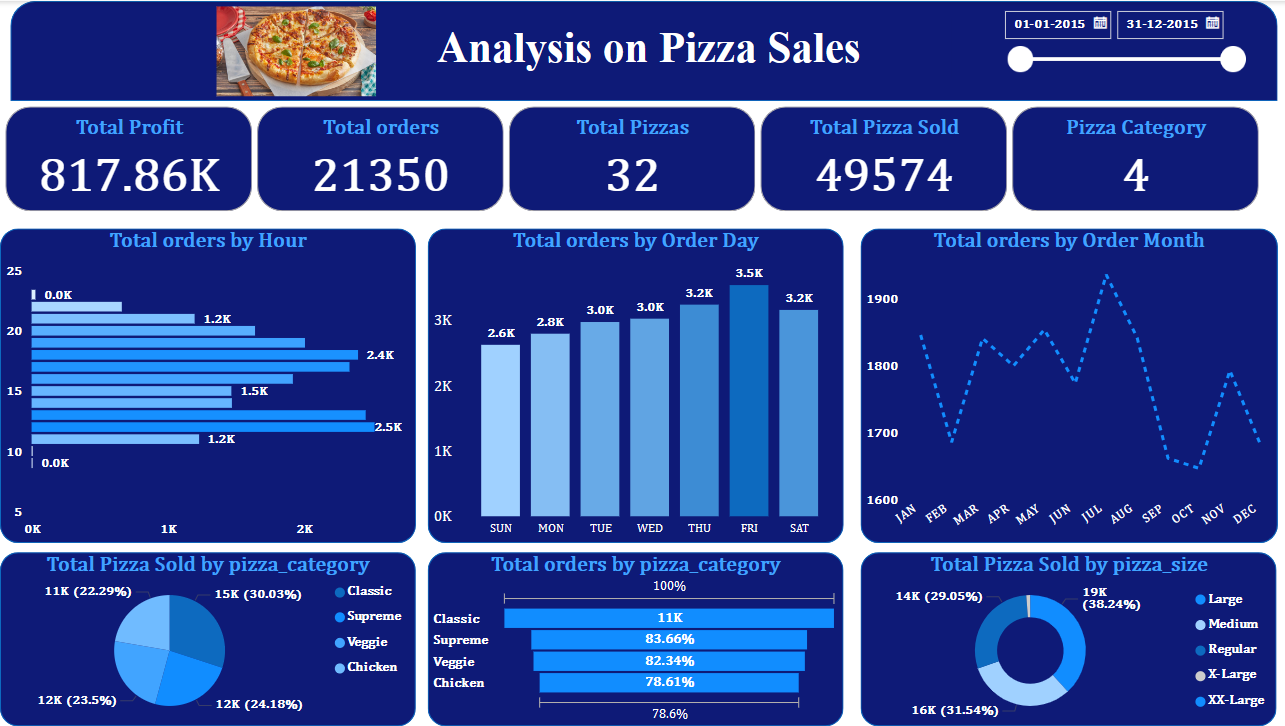

Layout of this report page (visuals, bound fields, positions):
{"tool":"powerbi","page":{"name":"Page 1","canvas":[1280,720],"ordinal":0},"visuals":[{"type":"shape","box":[10.3,0,1258.8,99.4],"z":0},{"type":"textbox","box":[343.4,16.8,601.7,59.4],"z":1000},{"type":"cardVisual","fields":{"Data":["pizza_sales.Total Profit","pizza_sales.Total orders","pizza_sales.Total Pizzas","pizza_sales.Total Pizza Sold","pizza_sales.Pizza Category"]},"box":[0,99.4,1258.8,114.9],"z":2000},{"type":"shape","box":[0,225.9,413.2,312.5],"z":3000},{"type":"shape","box":[424.8,225.9,413.2,312.5],"z":4000},{"type":"shape","box":[854.7,225.9,414.4,312.5],"z":5000},{"type":"columnChart","fields":{"Category":["pizza_sales.Order Day"],"Y":["pizza_sales.Total orders"]},"box":[424.8,225.9,413.2,312.5],"z":6000},{"type":"lineChart","fields":{"Category":["pizza_sales.Order Month"],"Y":["pizza_sales.Total orders"]},"box":[854.7,225.9,414.4,312.5],"z":7000},{"type":"barChart","fields":{"Category":["pizza_sales.Hour"],"Y":["pizza_sales.Total orders"]},"box":[0,225.9,413.2,312.5],"z":8000},{"type":"shape","box":[854.7,547.4,413.2,173],"z":9000},{"type":"shape","box":[0,547,413,173],"z":10000},{"type":"shape","box":[425,547,413,173],"z":11000},{"type":"pieChart","fields":{"Y":["pizza_sales.Total Pizza Sold"],"Category":["pizza_sales.pizza_category"]},"box":[0,547.4,413.2,173],"z":12000},{"type":"funnel","fields":{"Category":["pizza_sales.pizza_category"],"Y":["pizza_sales.Total orders"]},"box":[424.8,547.4,413.2,173],"z":13000},{"type":"donutChart","fields":{"Y":["pizza_sales.Total Pizza Sold"],"Category":["pizza_sales.pizza_size"]},"box":[854.7,547.4,414.4,173],"z":14000},{"type":"slicer","fields":{"Values":["pizza_sales.order_date"]},"box":[985.1,0,260.8,99.4],"z":15000},{"type":"image","box":[206.6,0,175.6,99.4],"z":16000}]}

Visuals, with their boxes in screenshot pixels (x1, y1, x2, y2), scaled from the page's 1280x720 canvas onto the 1285x726 screenshot:
shape: <region>10, 0, 1274, 100</region>
textbox: <region>345, 17, 949, 77</region>
cardVisual - pizza_sales.Total Profit x pizza_sales.Total orders: <region>0, 100, 1264, 216</region>
shape: <region>0, 228, 415, 543</region>
shape: <region>426, 228, 841, 543</region>
shape: <region>858, 228, 1274, 543</region>
columnChart - pizza_sales.Order Day x pizza_sales.Total orders: <region>426, 228, 841, 543</region>
lineChart - pizza_sales.Order Month x pizza_sales.Total orders: <region>858, 228, 1274, 543</region>
barChart - pizza_sales.Hour x pizza_sales.Total orders: <region>0, 228, 415, 543</region>
shape: <region>858, 552, 1273, 725</region>
shape: <region>0, 552, 415, 725</region>
shape: <region>427, 552, 841, 725</region>
pieChart - pizza_sales.Total Pizza Sold x pizza_sales.pizza_category: <region>0, 552, 415, 725</region>
funnel - pizza_sales.pizza_category x pizza_sales.Total orders: <region>426, 552, 841, 725</region>
donutChart - pizza_sales.Total Pizza Sold x pizza_sales.pizza_size: <region>858, 552, 1274, 725</region>
slicer - pizza_sales.order_date: <region>989, 0, 1251, 100</region>
image: <region>207, 0, 384, 100</region>
